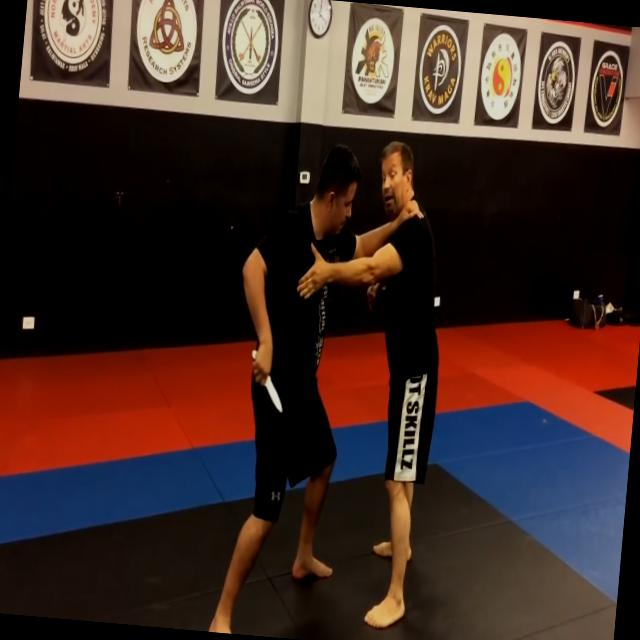knife: (241, 340, 292, 422)
